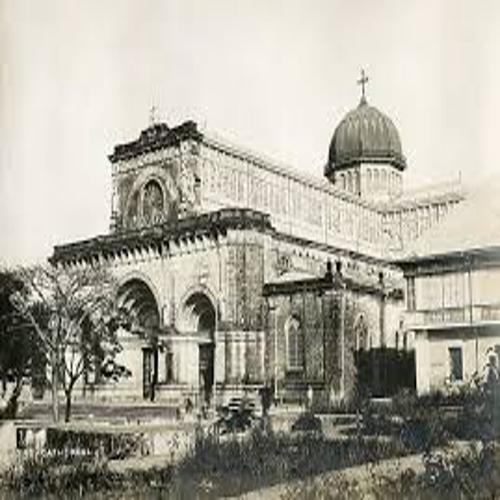Manila Cathedral Church: (27, 44, 494, 409)
